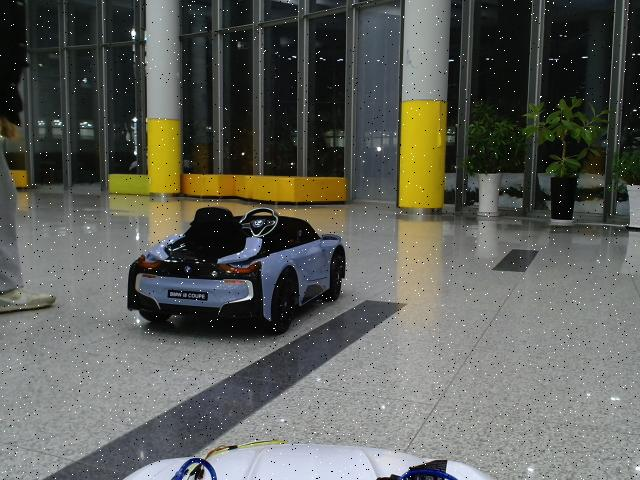car: (128, 207, 348, 334)
